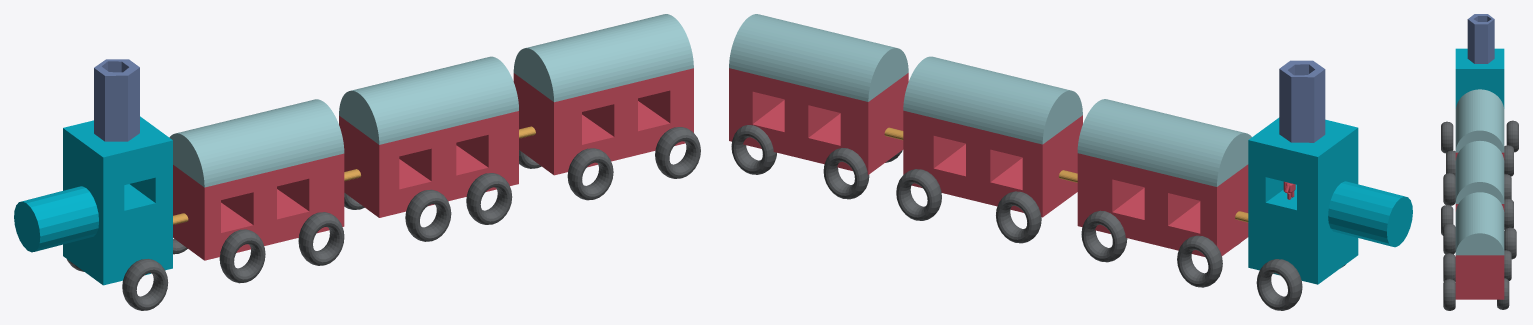
Rendered from C-150 PROJECT.glb.
3 views of the same model, side by side, from view 1: azimuth 30°, elevation 25°; view 2: azimuth 150°, elevation 25°; view 3: azimuth 270°, elevation 25° (orthographic). The views are drawn at different scales.
Visible parts, largest first — view 1: Mesh_Mesh_head_geo.001_lambert2SG.001; view 2: Mesh_Mesh_head_geo.001_lambert2SG.001; view 3: Mesh_Mesh_head_geo.001_lambert2SG.001.
Boxes of the visible parts, x1,y1,x2,y2 form: Mesh_Mesh_head_geo.001_lambert2SG.001: (14, 14, 700, 310); Mesh_Mesh_head_geo.001_lambert2SG.001: (729, 14, 1412, 310); Mesh_Mesh_head_geo.001_lambert2SG.001: (1441, 14, 1518, 310).
Size of the model in its own units: 186 by 60.5 by 32.
